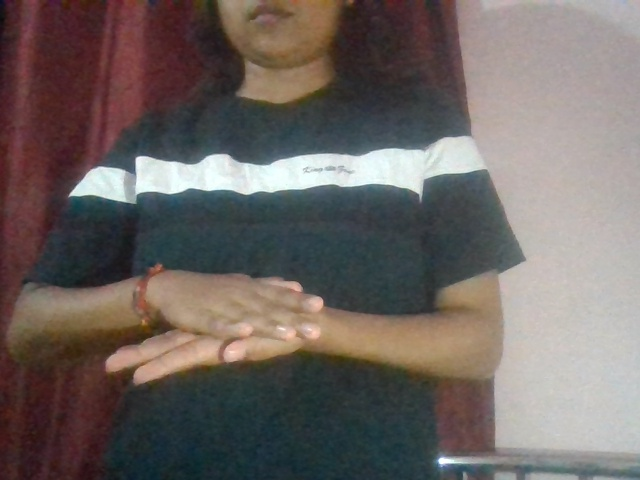H: (93, 261, 401, 416)
